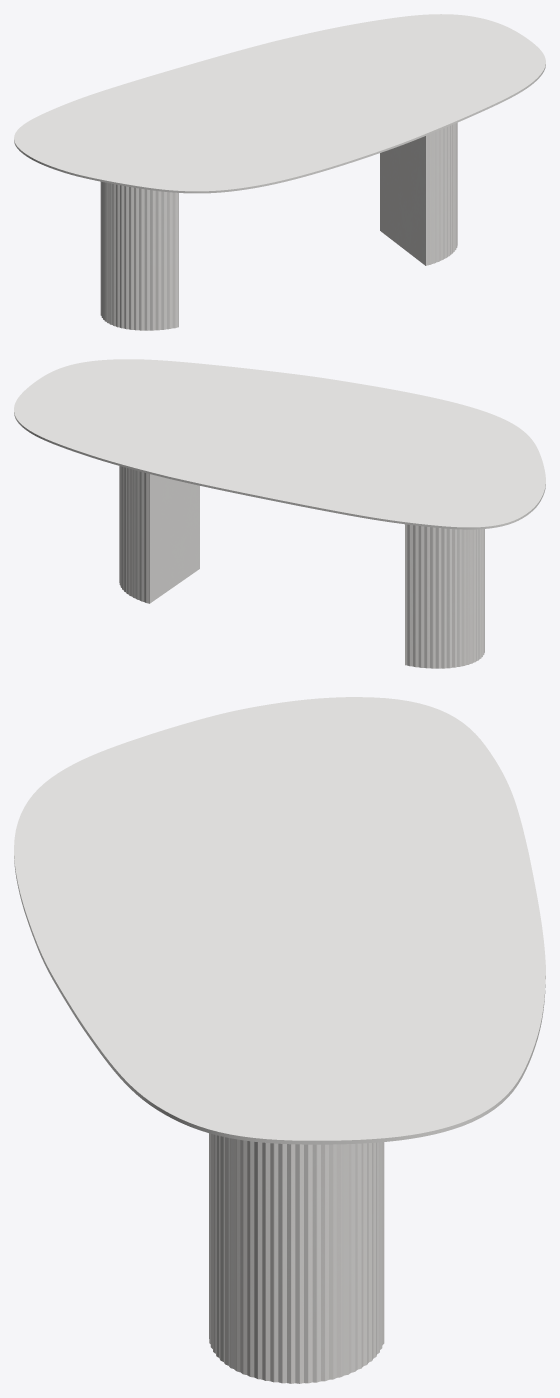
Rendered from purewhite_leaf2_facet_flute.glb.
3 views of the same model, one above another, from view 1: azimuth 30°, elevation 25°; view 2: azimuth 150°, elevation 25°; view 3: azimuth 270°, elevation 25° (orthographic). The views are drawn at different scales.
Parts seen in each view (by area): view 1: facet_leaf2, flute; view 2: facet_leaf2, flute; view 3: facet_leaf2, flute.
Part boxes in pixels (x1=…): facet_leaf2: x1=14, y1=14, x2=545, y2=193; flute: x1=100, y1=123, x2=457, y2=330; facet_leaf2: x1=14, y1=359, x2=545, y2=529; flute: x1=119, y1=466, x2=484, y2=668; facet_leaf2: x1=14, y1=697, x2=545, y2=1144; flute: x1=209, y1=1133, x2=384, y2=1383.
Size of the model in its own units: 7.5 by 2.5 by 3.8.
1 material, 1 textured.
